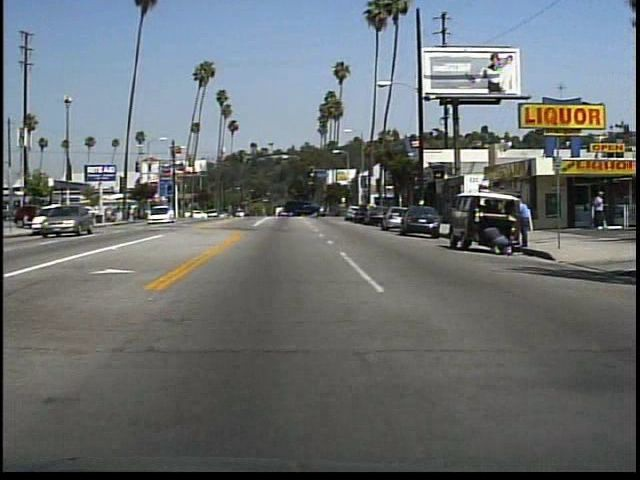person: (481, 222, 512, 259), (514, 196, 533, 248), (590, 187, 607, 234)
